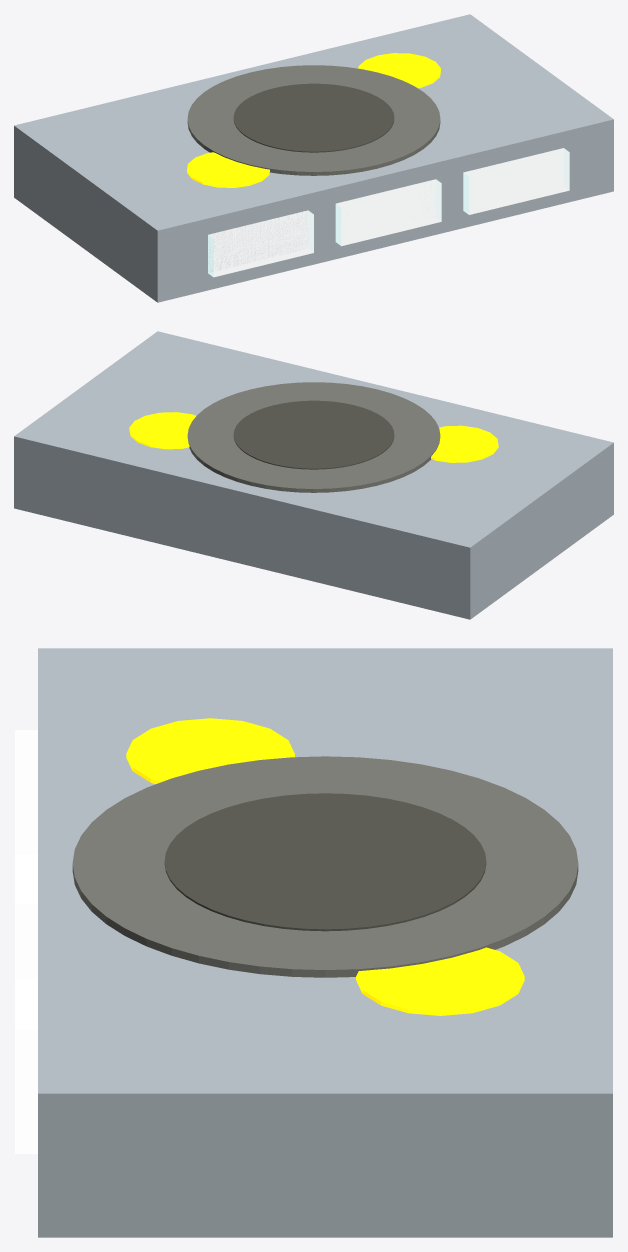
The model's file is nomad_nexus_mobility_lab.glb.
3 renders of one model, top to bottom at view 1: azimuth 30°, elevation 25°; view 2: azimuth 150°, elevation 25°; view 3: azimuth 270°, elevation 25°, orthographic. The views are drawn at different scales.
Parts seen in each view (by area): view 1: nomad_nexus_mobility_lab; view 2: nomad_nexus_mobility_lab; view 3: nomad_nexus_mobility_lab.
Boxes of the visible parts, x1,y1,x2,y2 form: nomad_nexus_mobility_lab: [14, 14, 613, 302]; nomad_nexus_mobility_lab: [14, 331, 613, 619]; nomad_nexus_mobility_lab: [15, 648, 612, 1237].
Size of the model in its own units: 67.1 by 10.8 by 38.06.
